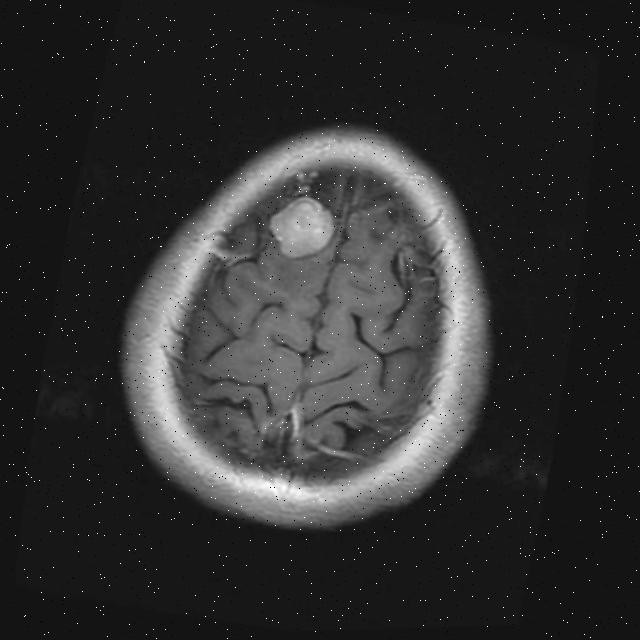Meningioma: (262, 189, 341, 267)
